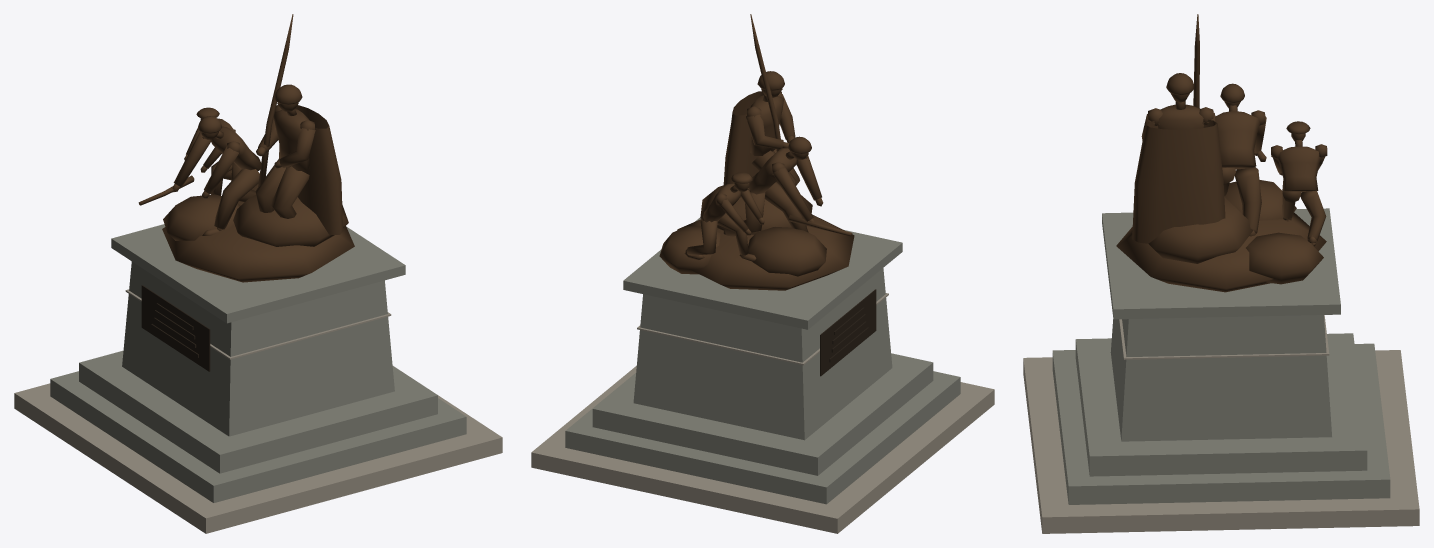
File: komsomolcam.glb
3 renders of one model, left to right at view 1: azimuth 30°, elevation 25°; view 2: azimuth 150°, elevation 25°; view 3: azimuth 270°, elevation 25°, orthographic. The views are drawn at different scales.
Visible parts, largest first — view 1: komsomolcam_wall2, komsomolcam_wall3, komsomolcam_stone, komsomolcam_metal; view 2: komsomolcam_wall2, komsomolcam_wall3, komsomolcam_stone, komsomolcam_metal; view 3: komsomolcam_wall2, komsomolcam_wall3, komsomolcam_stone.
Part boxes in pixels (<box>): komsomolcam_wall2: <box>50,224,466,502</box>; komsomolcam_wall3: <box>138,14,354,282</box>; komsomolcam_stone: <box>14,289,502,533</box>; komsomolcam_metal: <box>141,285,210,371</box>; komsomolcam_wall2: <box>565,217,960,504</box>; komsomolcam_wall3: <box>659,14,854,290</box>; komsomolcam_stone: <box>531,293,994,533</box>; komsomolcam_metal: <box>820,289,876,376</box>; komsomolcam_wall2: <box>1052,208,1390,504</box>; komsomolcam_wall3: <box>1116,14,1327,292</box>; komsomolcam_stone: <box>1023,315,1419,533</box>.
Size of the model in its own units: 7.13 by 8.9 by 7.13.
